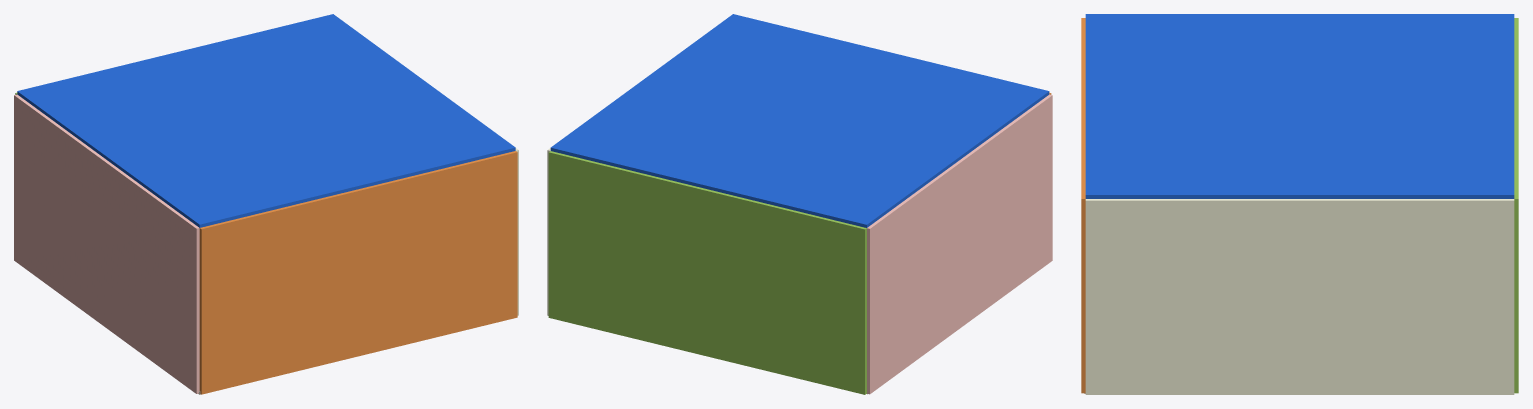
The model's file is room.obj.
3 renders of one model, left to right at view 1: azimuth 30°, elevation 25°; view 2: azimuth 150°, elevation 25°; view 3: azimuth 270°, elevation 25°, orthographic. The views are drawn at different scales.
Visible parts, largest first — view 1: Ceiling_Cube.005, Wall3_Cube.008, Wall1_Cube.006; view 2: Ceiling_Cube.005, Wall4_Cube.009, Wall1_Cube.006; view 3: Wall2_Cube.007, Ceiling_Cube.005, Wall3_Cube.008, Wall4_Cube.009.
Boxes of the visible parts, box(x1,y1,x2,y2) form: Ceiling_Cube.005: box(17, 14, 515, 227); Wall3_Cube.008: box(199, 151, 517, 394); Wall1_Cube.006: box(14, 94, 199, 393); Ceiling_Cube.005: box(550, 14, 1049, 227); Wall4_Cube.009: box(548, 151, 866, 394); Wall1_Cube.006: box(867, 94, 1052, 394); Wall2_Cube.007: box(1085, 199, 1514, 394); Ceiling_Cube.005: box(1085, 14, 1514, 198); Wall3_Cube.008: box(1081, 18, 1085, 393); Wall4_Cube.009: box(1514, 18, 1518, 393).
Bounding box in the file's own units: 10.2 × 5.13 × 10.2.
